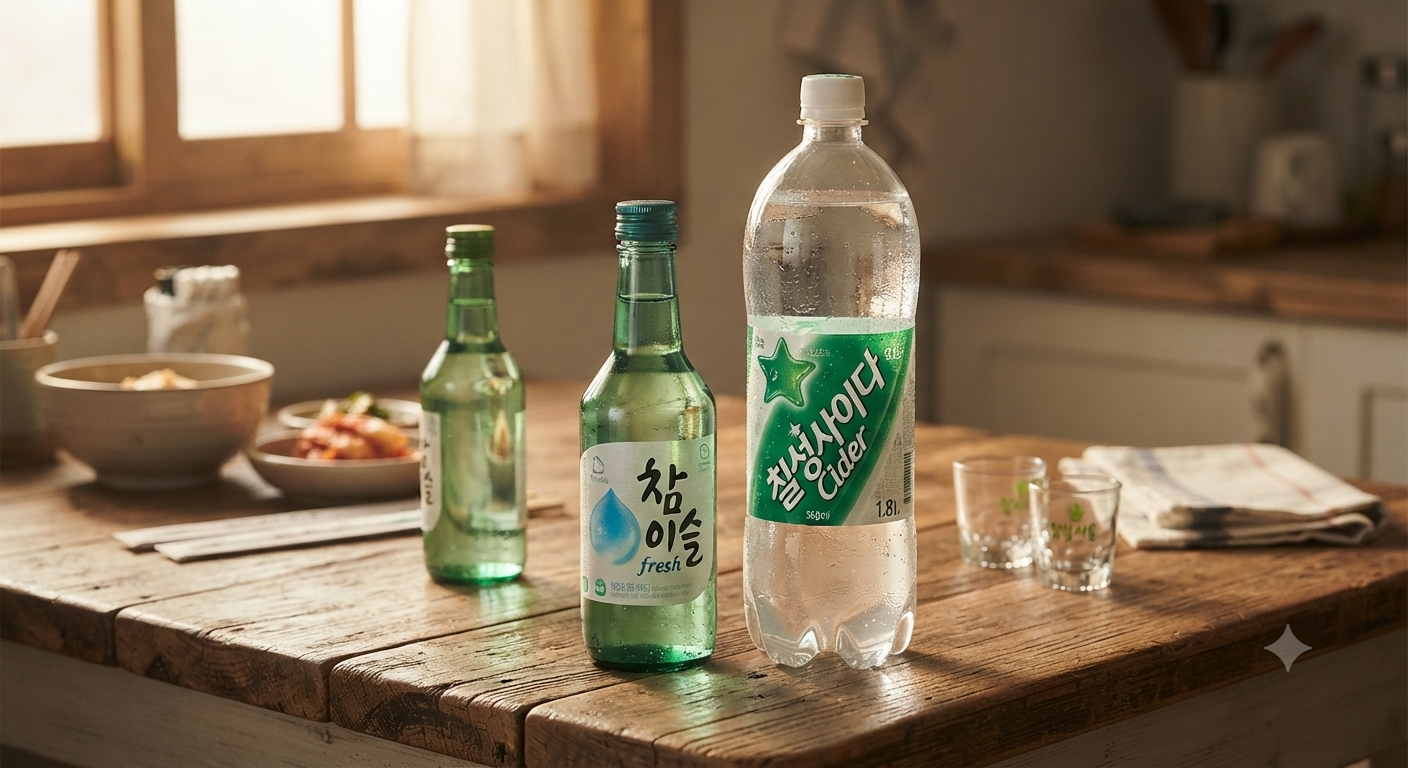soju-bottle: (458, 330, 669, 714), (394, 292, 535, 599)
